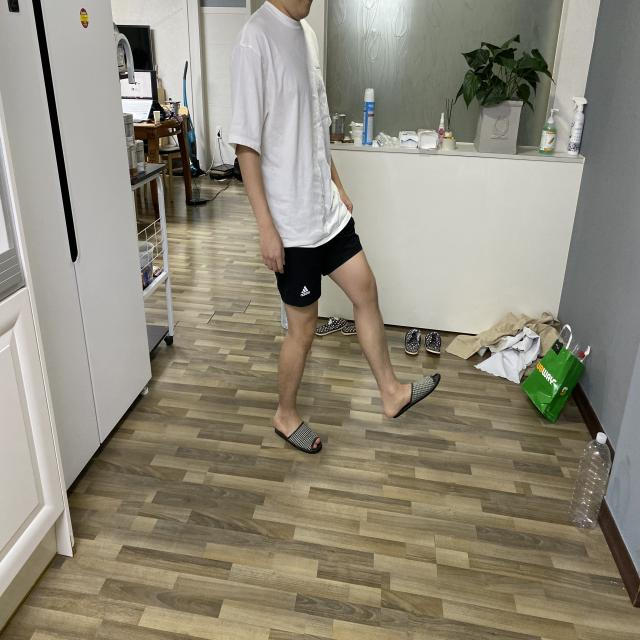no-boots: (268, 399, 331, 463), (374, 374, 446, 426)
